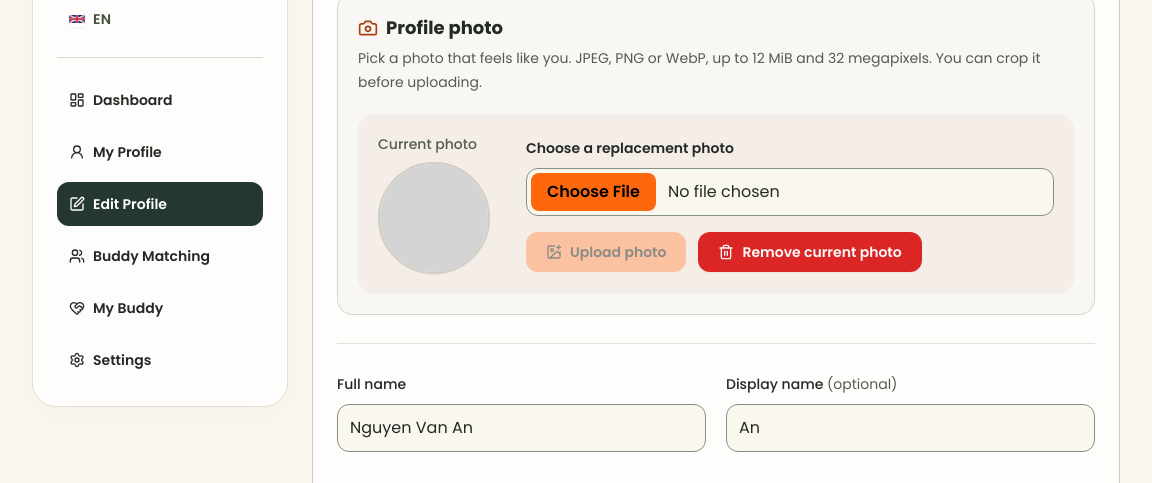
Scenario: FE-029 and PREF-004 own profile editing › reuses all onboarding editors and refreshes readiness after required data is removed
(page scrolled)
What coordinates should you click on to do the following:
click the button "Remove current photo"
I would click on:
 (810, 252)
Its box is [698,232,922,272].
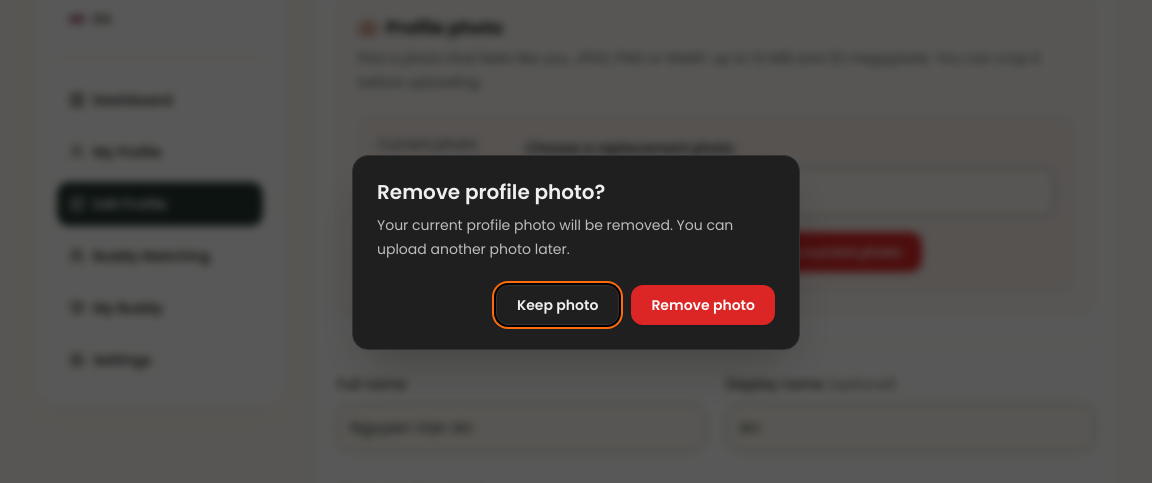
What coordinates should you click on to do the following:
click the button "Remove photo"
I would click on:
 (703, 304)
Its box is [631,284,775,324].
(page scrolled)
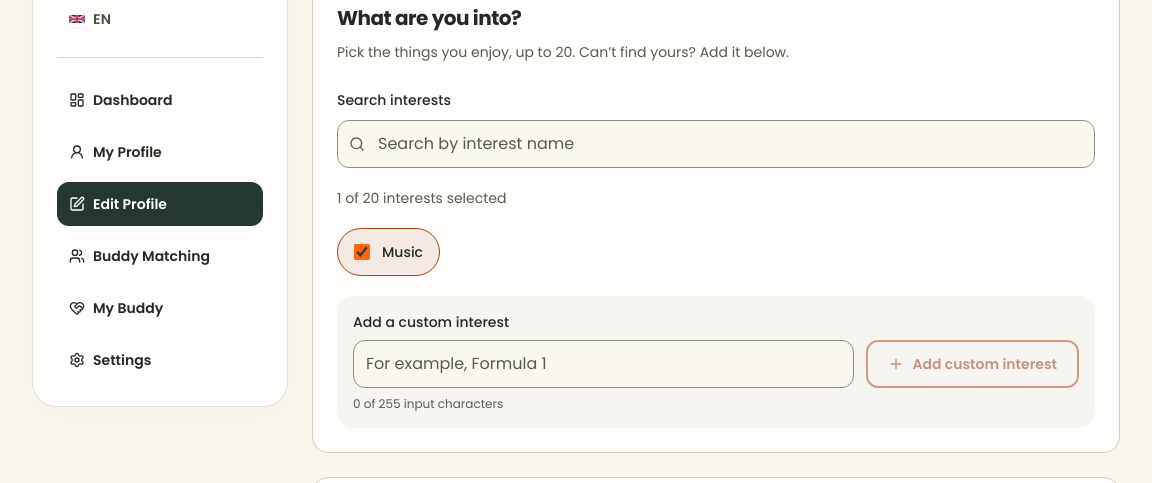
What coordinates should you click on to do the following:
click the checkbox labelled "Music"
I would click on:
 (362, 252)
Its box is [354,244,370,260].
(page scrolled)
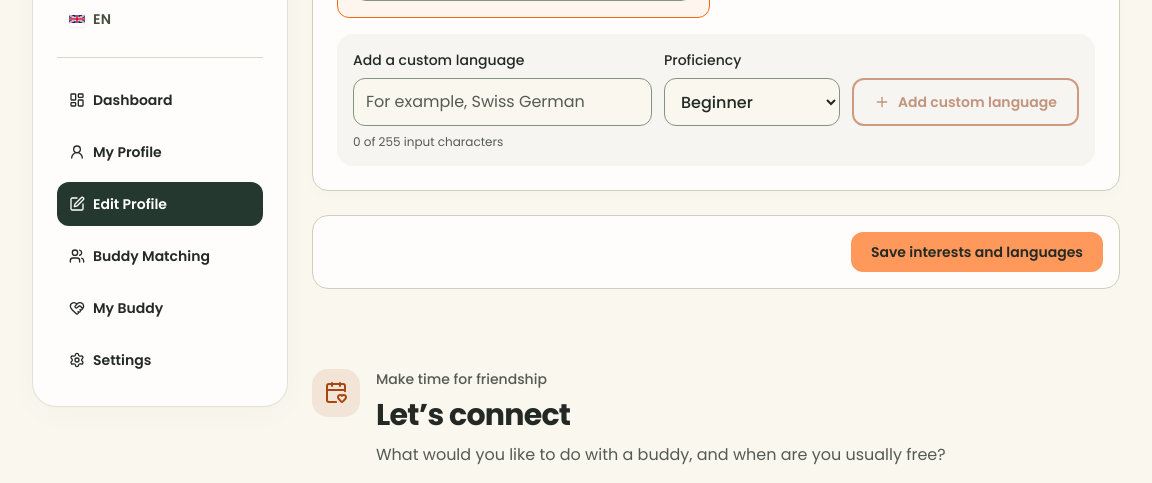
What coordinates should you click on to do the following:
click the button "Save interests and languages"
I would click on:
 (977, 252)
Its box is [851,232,1103,272].
(page scrolled)
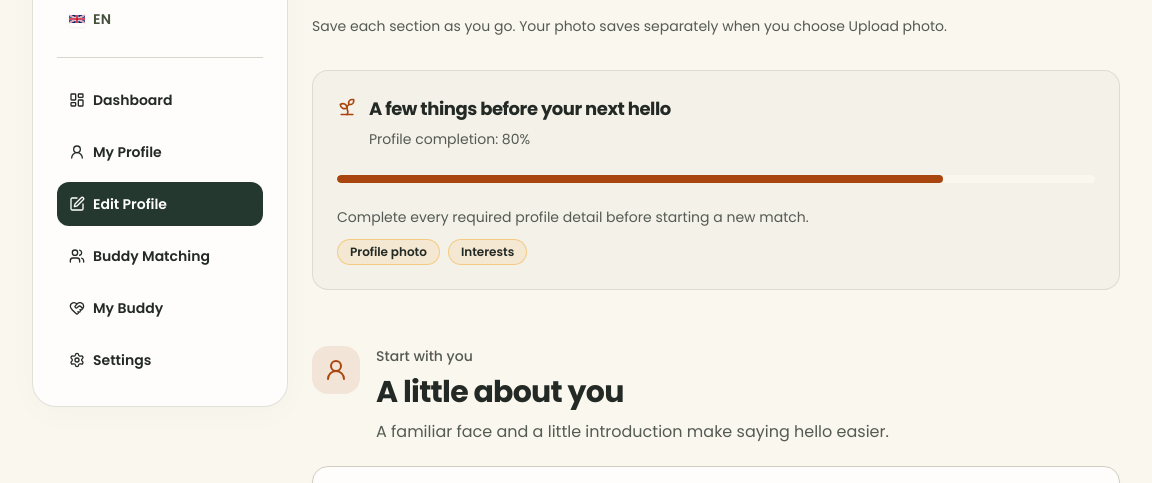
Expected: the list item "Interests" is shown, [448,239,527,265]
